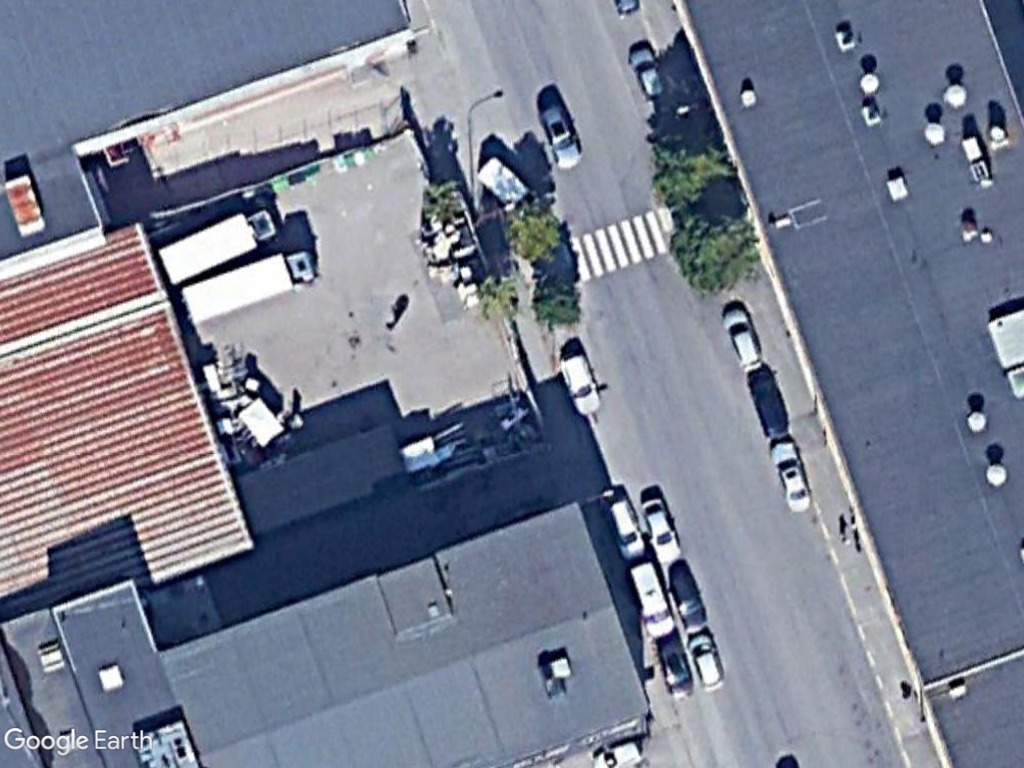car: (599, 485, 651, 567), (764, 435, 814, 518), (662, 555, 712, 633), (636, 491, 685, 570), (536, 97, 585, 174), (717, 299, 765, 376), (626, 38, 671, 106), (681, 627, 724, 694)
truck: (176, 237, 319, 329), (149, 197, 282, 293)
van: (609, 560, 676, 644), (555, 346, 606, 425)
